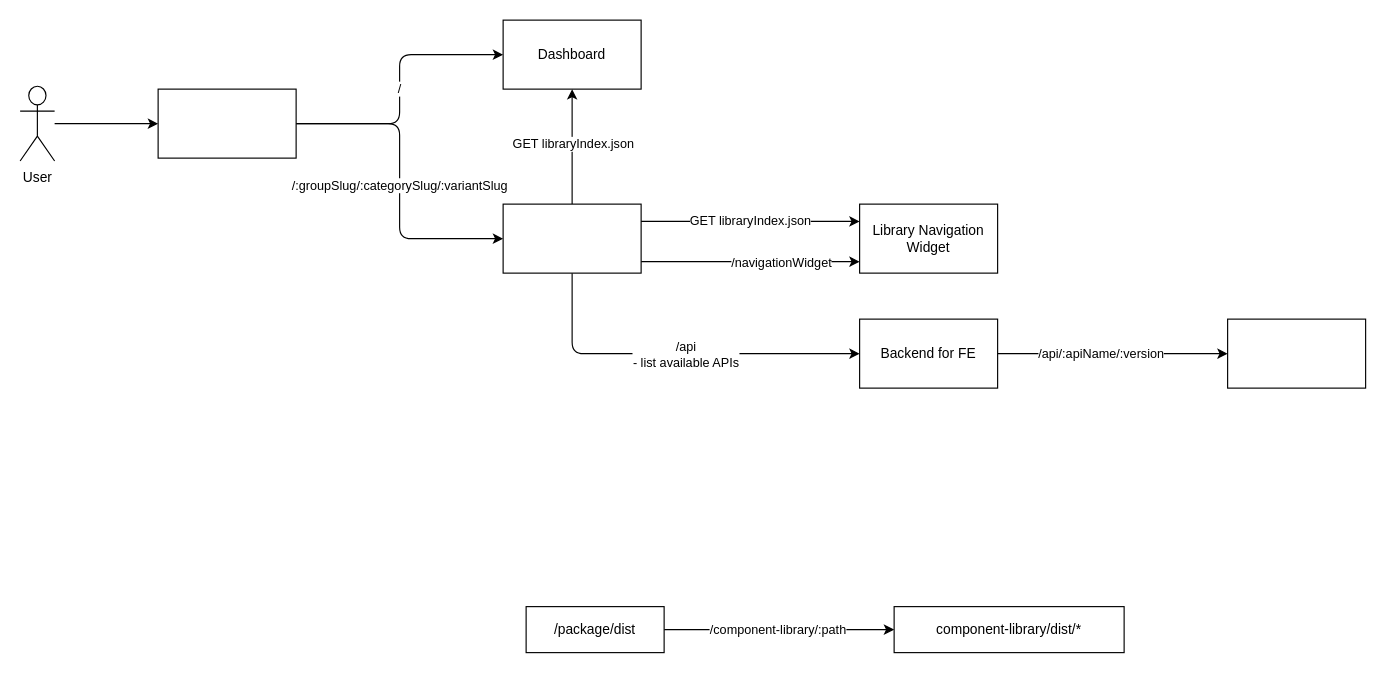
The diagram is 1386 pixels wide and 673 high, and some of its shapes have lost their labels. The centre of each missing label's shape, as x and y in pixels:
"Component Library" belongs at pixel 571 238.
"NodeJS Microservice" belongs at pixel 1296 353.
"traefik" belongs at pixel 226 123.
